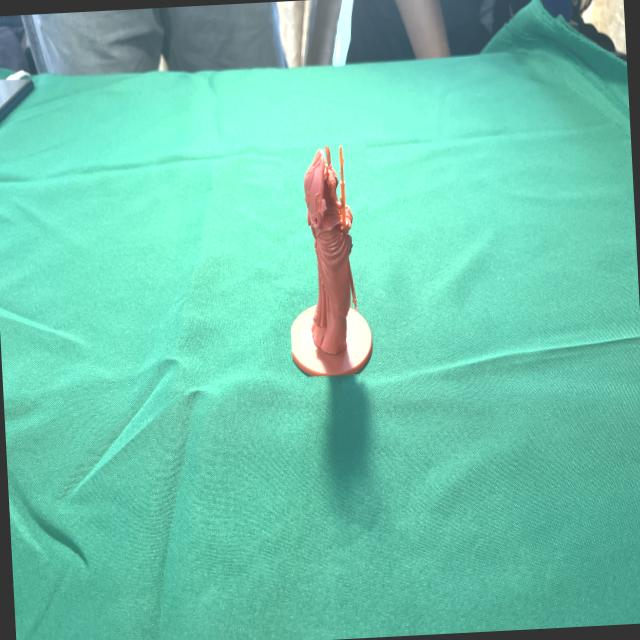amon: (282, 145, 377, 379)
